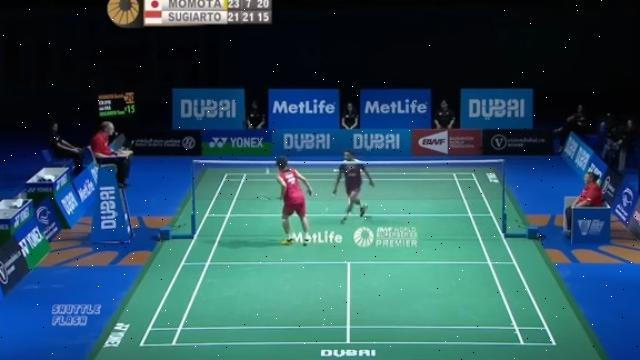Shuttlecock: (264, 166, 270, 174)
